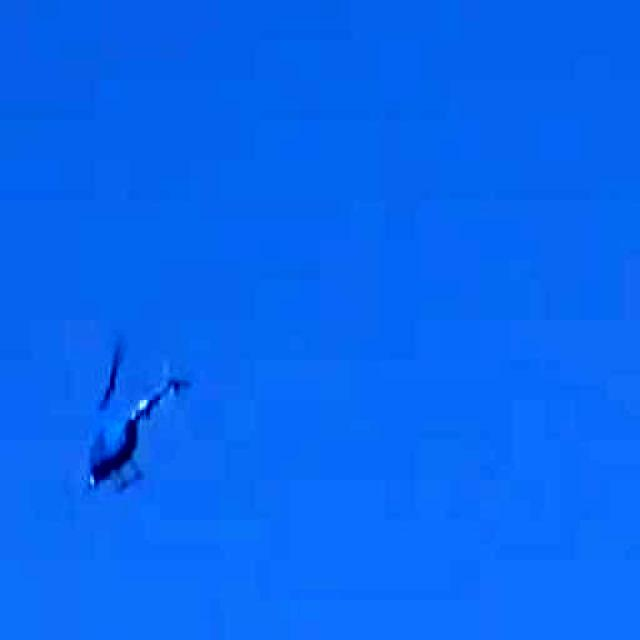drone: (18, 334, 218, 534)
